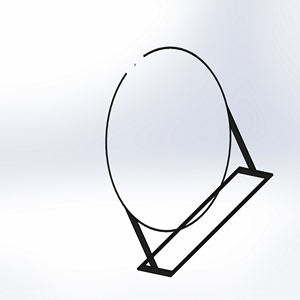circle: (101, 42, 275, 277)
